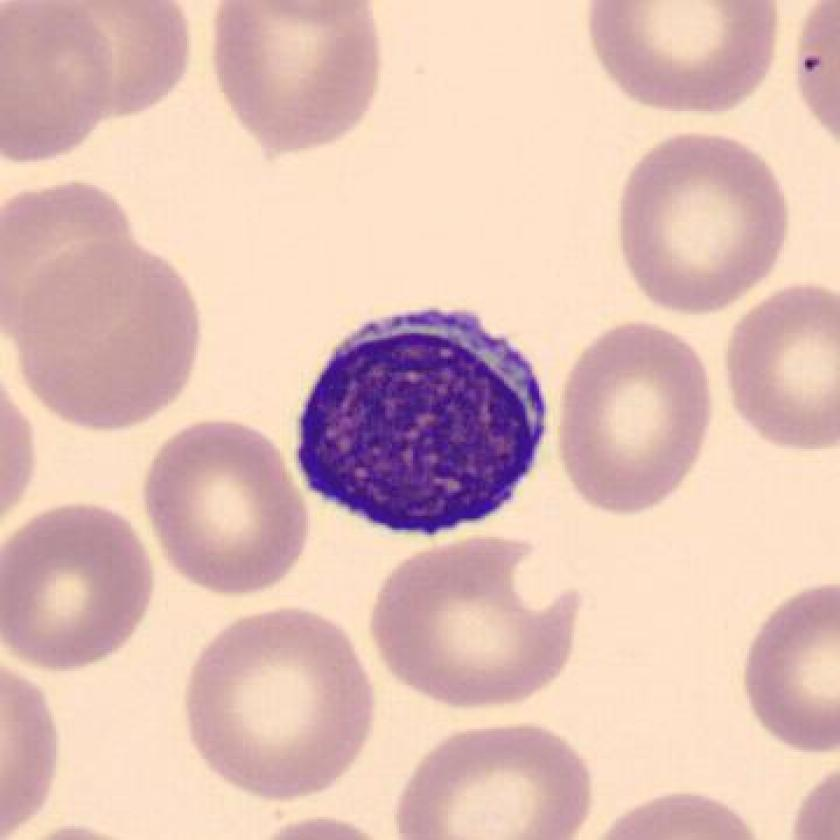lymphocyte: (276, 297, 566, 543)
